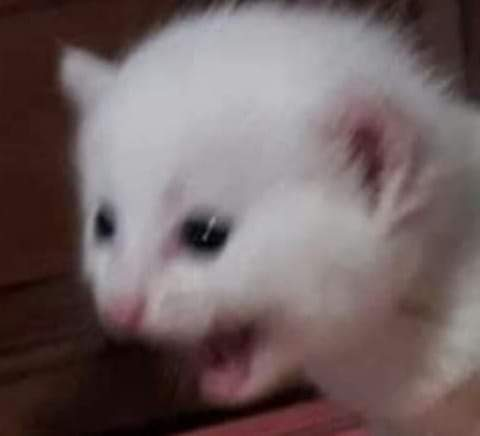cat: (59, 7, 476, 405)
